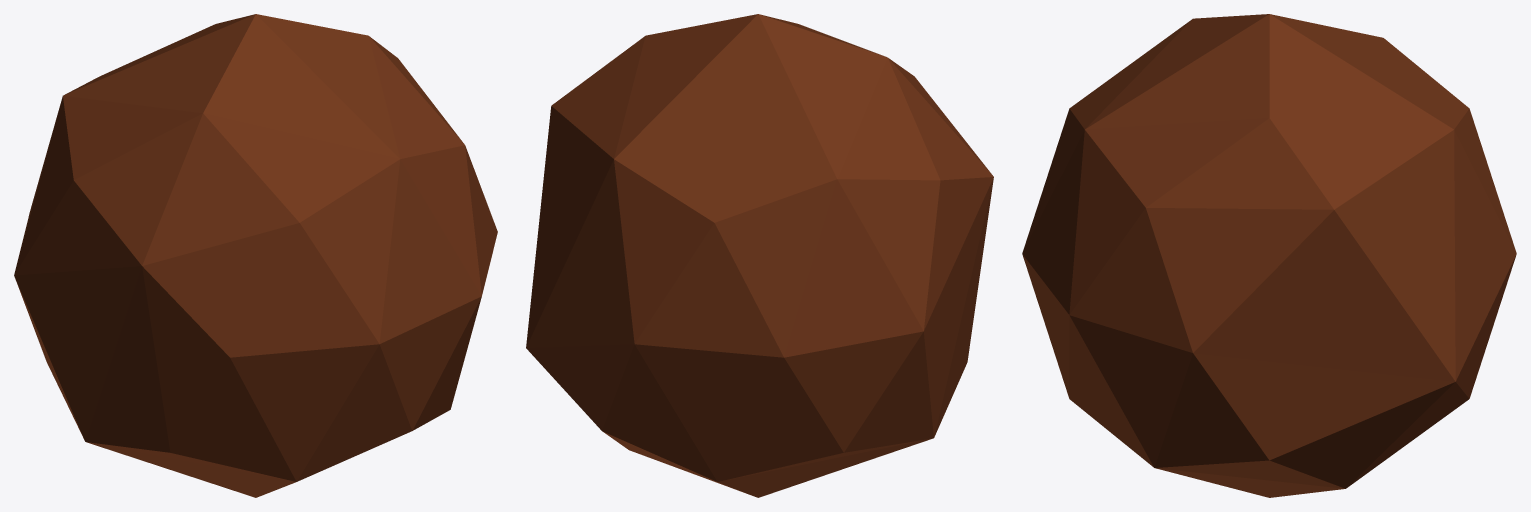
File: Coconut.fbx
The picture shows the model from 3 angles, left to right: view 1: azimuth 30°, elevation 25°; view 2: azimuth 150°, elevation 25°; view 3: azimuth 270°, elevation 25°; orthographic projection.
Visible parts, largest first — view 1: Icosphere; view 2: Icosphere; view 3: Icosphere.
Part boxes in pixels (x1,y1,x2,y2): Icosphere: (14, 14, 497, 497); Icosphere: (526, 14, 993, 497); Icosphere: (1022, 14, 1516, 497).
Bounding box in the file's own units: 24.03 × 27.28 × 25.27.
